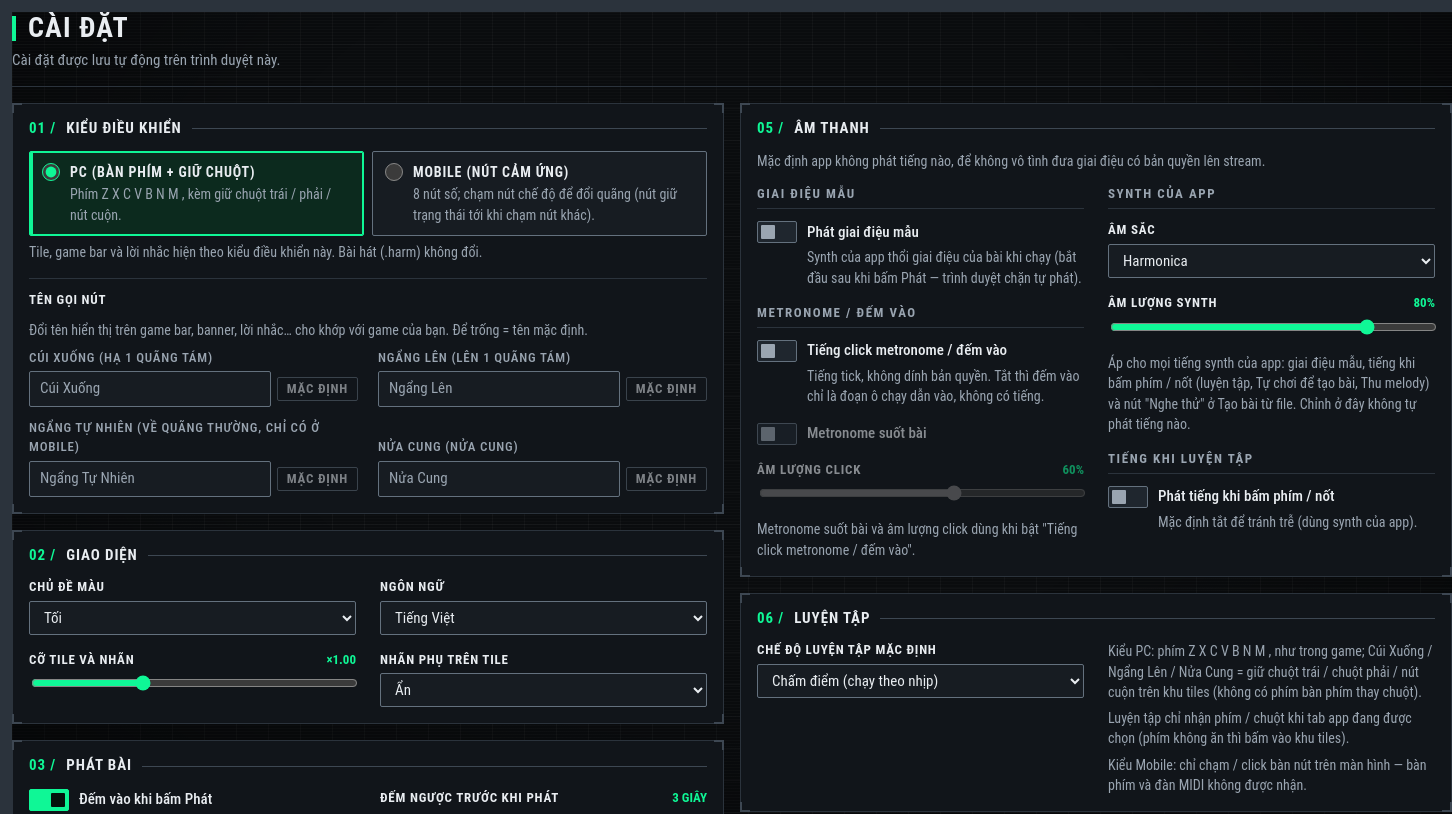
Scenario: SettingsView › switching the language to English relabels the screen
The width and height of the screenshot is (1452, 814).
Step 1. Select "English" in the dropdown labelled "Ngôn ngữ" → (544, 618), box [380,601,707,635]
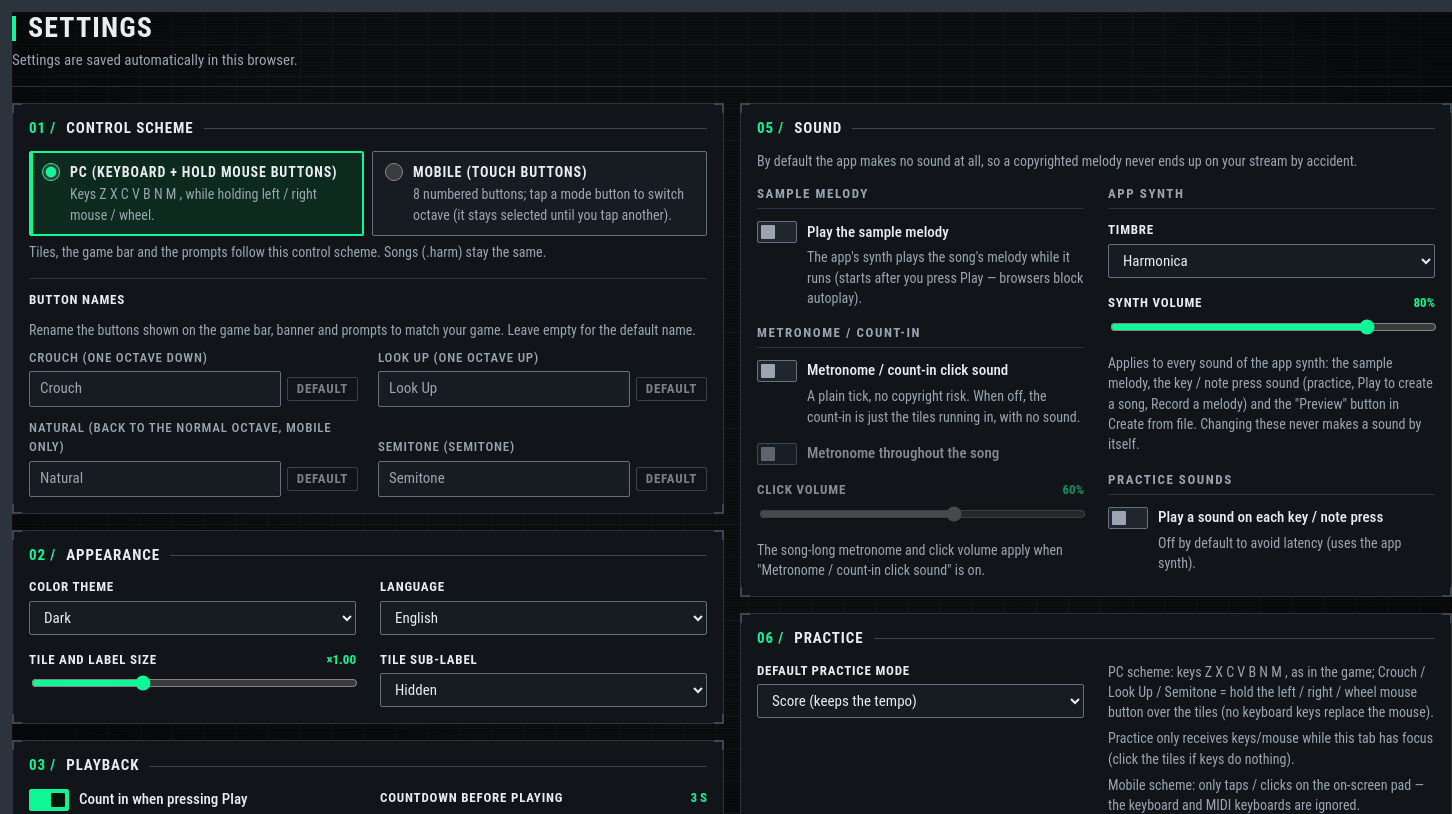
Check: the heading "Settings" is shown, box [28,11,153,44]
Check: the heading "Giao diện" is gone
Step 2. Select "Tiếng Việt" in the dropdown labelled "Language" → (544, 618), box [380,601,707,635]
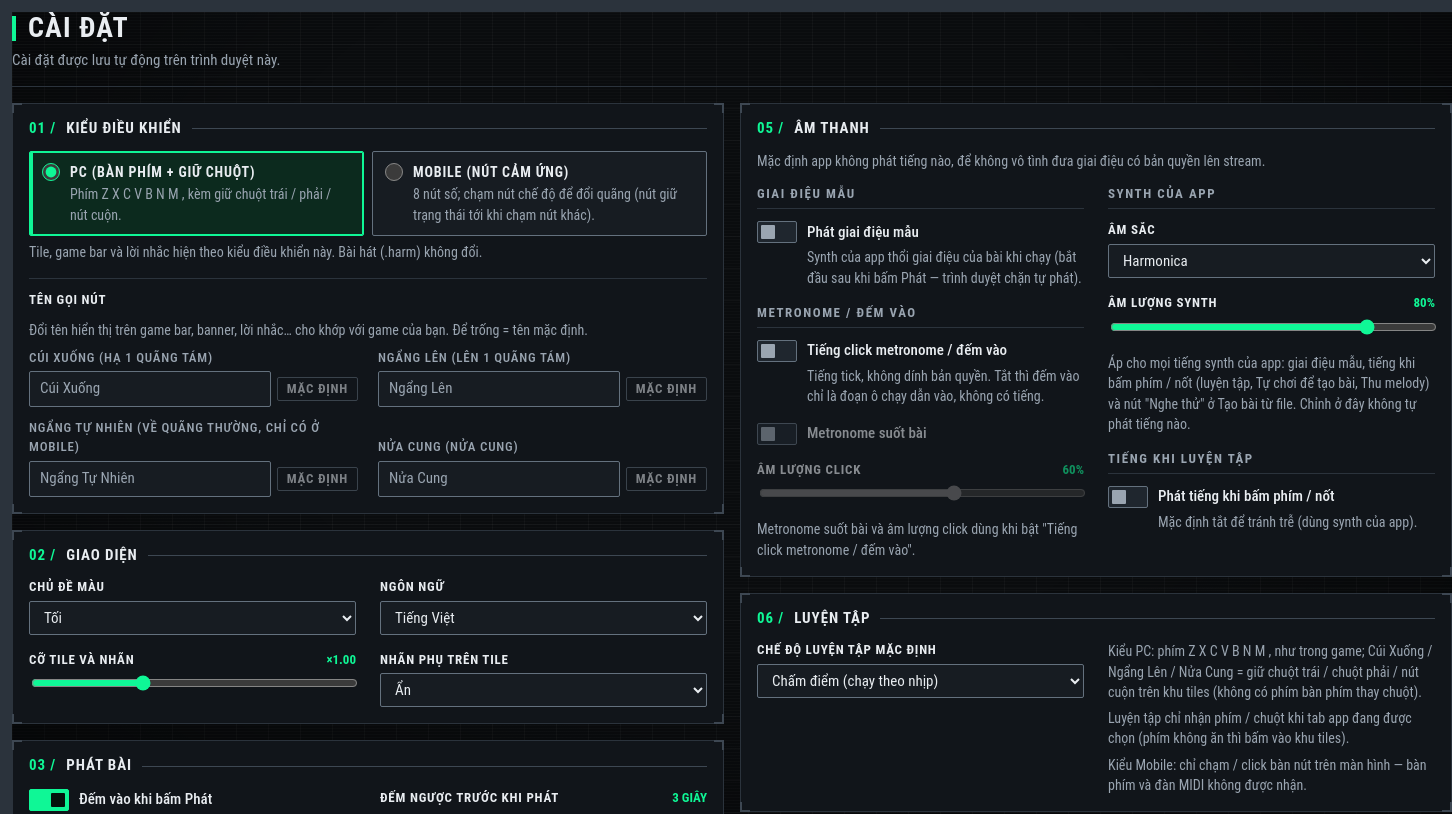
Check: the heading "Giao diện" is shown, box [66,546,138,564]
